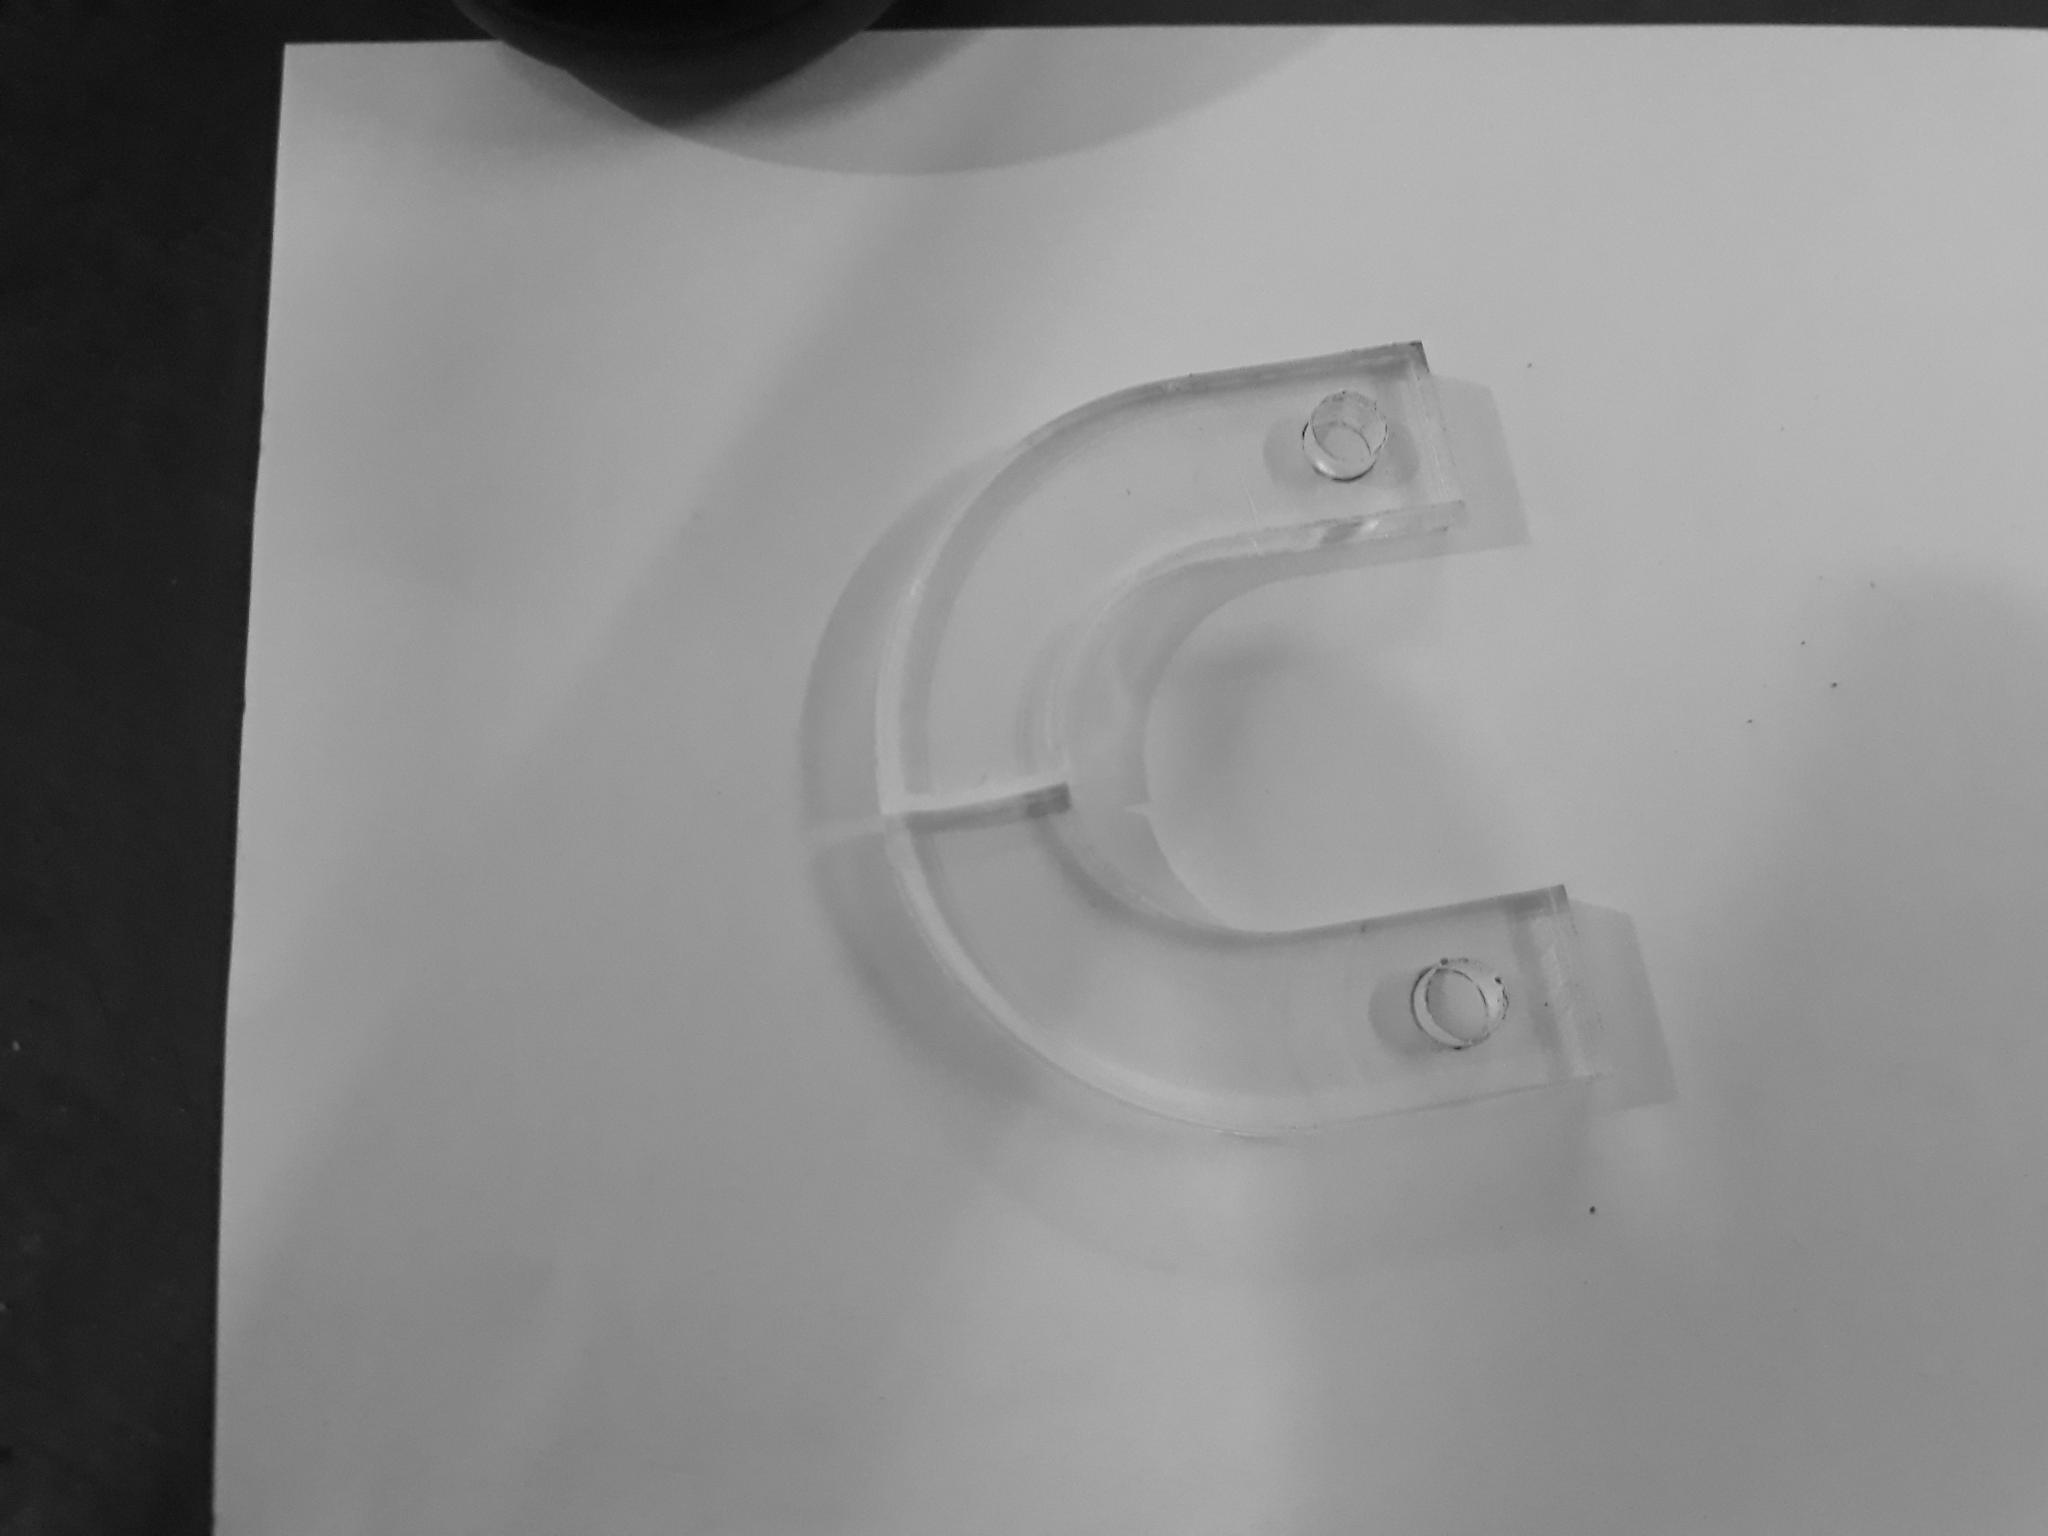Shape_180: (884, 329, 1614, 1168)
